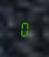zero: (19, 19, 27, 37)
